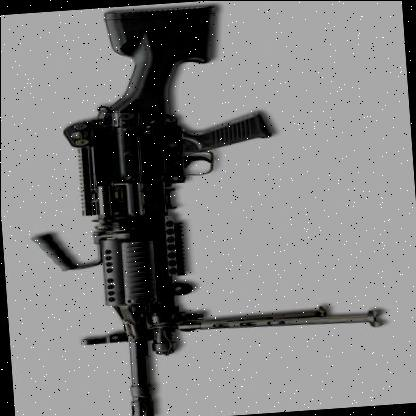rifle: (27, 0, 300, 416)
